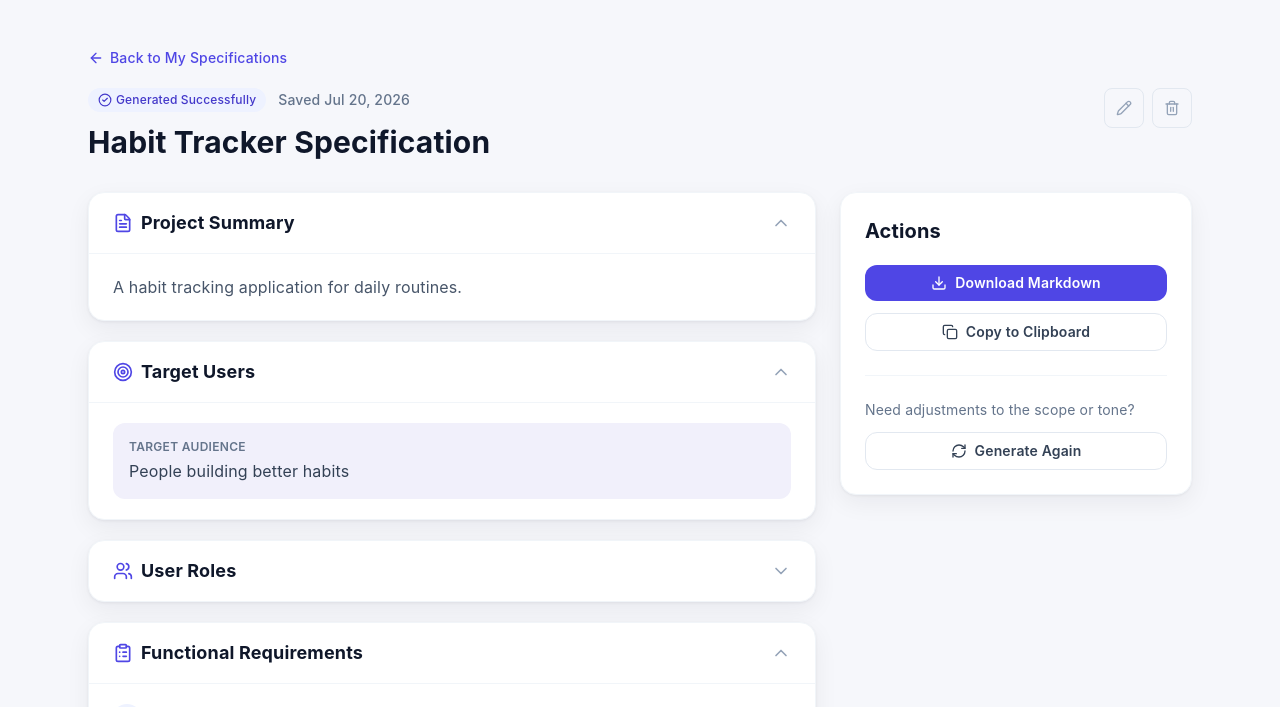
Test case: renaming a saved specification › saves the edited title to Firestore on Enter and updates the page immediately
The width and height of the screenshot is (1280, 707).
Expected: the heading "Habit Tracker Specification" is shown, top-left (88, 124), bottom-right (490, 160)
Click the button named "edit specification title". click: (1124, 108)
box: top-left (1104, 88), bottom-right (1144, 128)
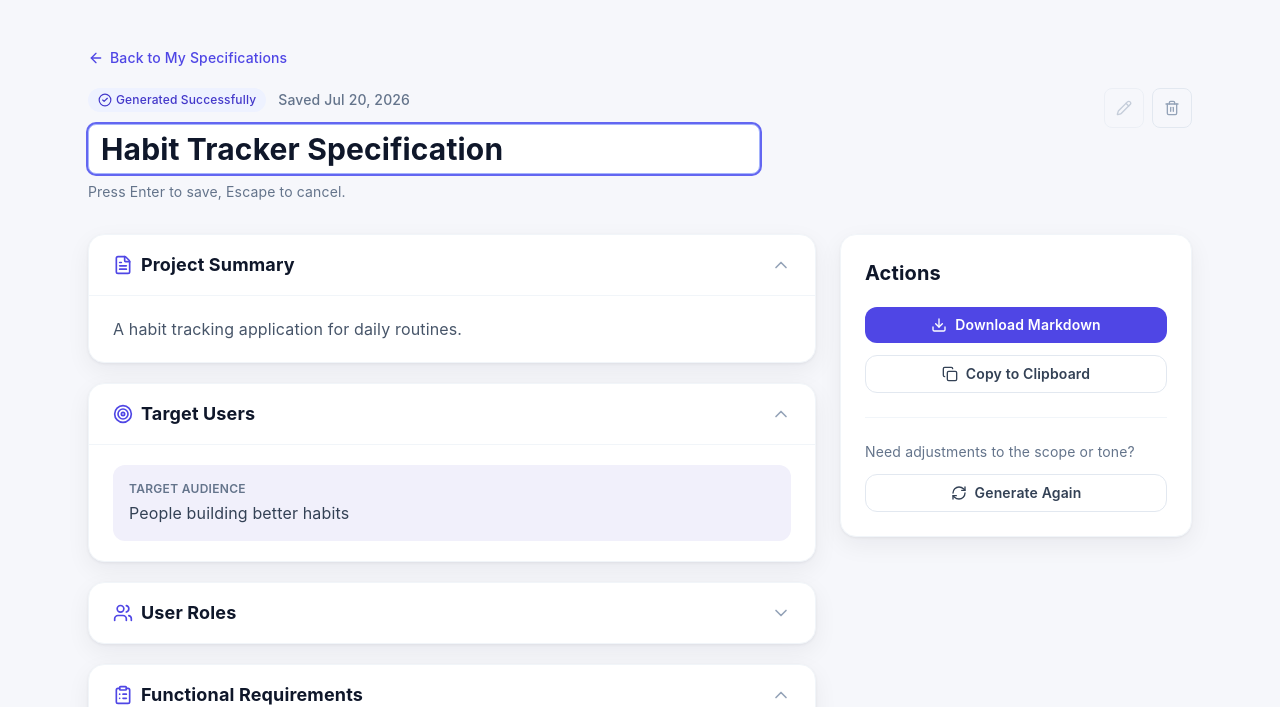
Now the field named "specification title" holds "Habit Tracker Specification"
Replace the text in the field named "specification title" with "Renamed Habit Tracker". click: (424, 149)
box: top-left (88, 124), bottom-right (760, 174)
Then press Enter
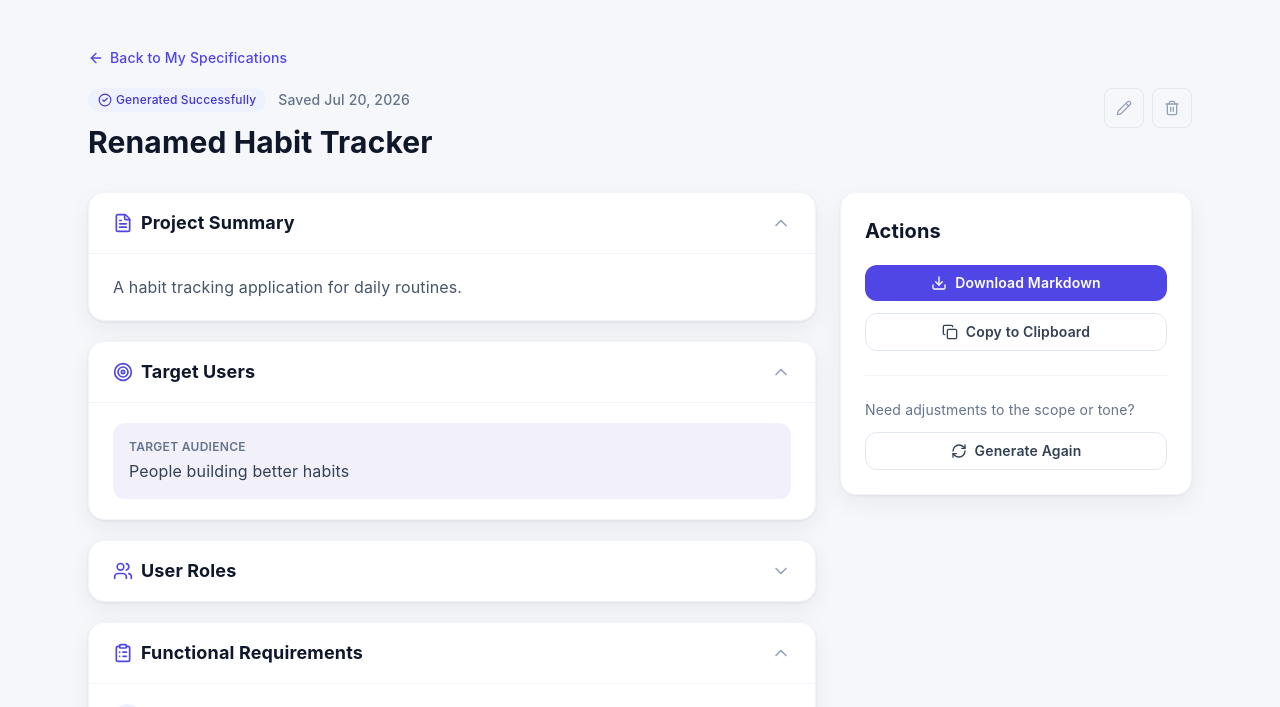
Now the heading "Renamed Habit Tracker" is shown, box top-left (88, 124), bottom-right (433, 160)
